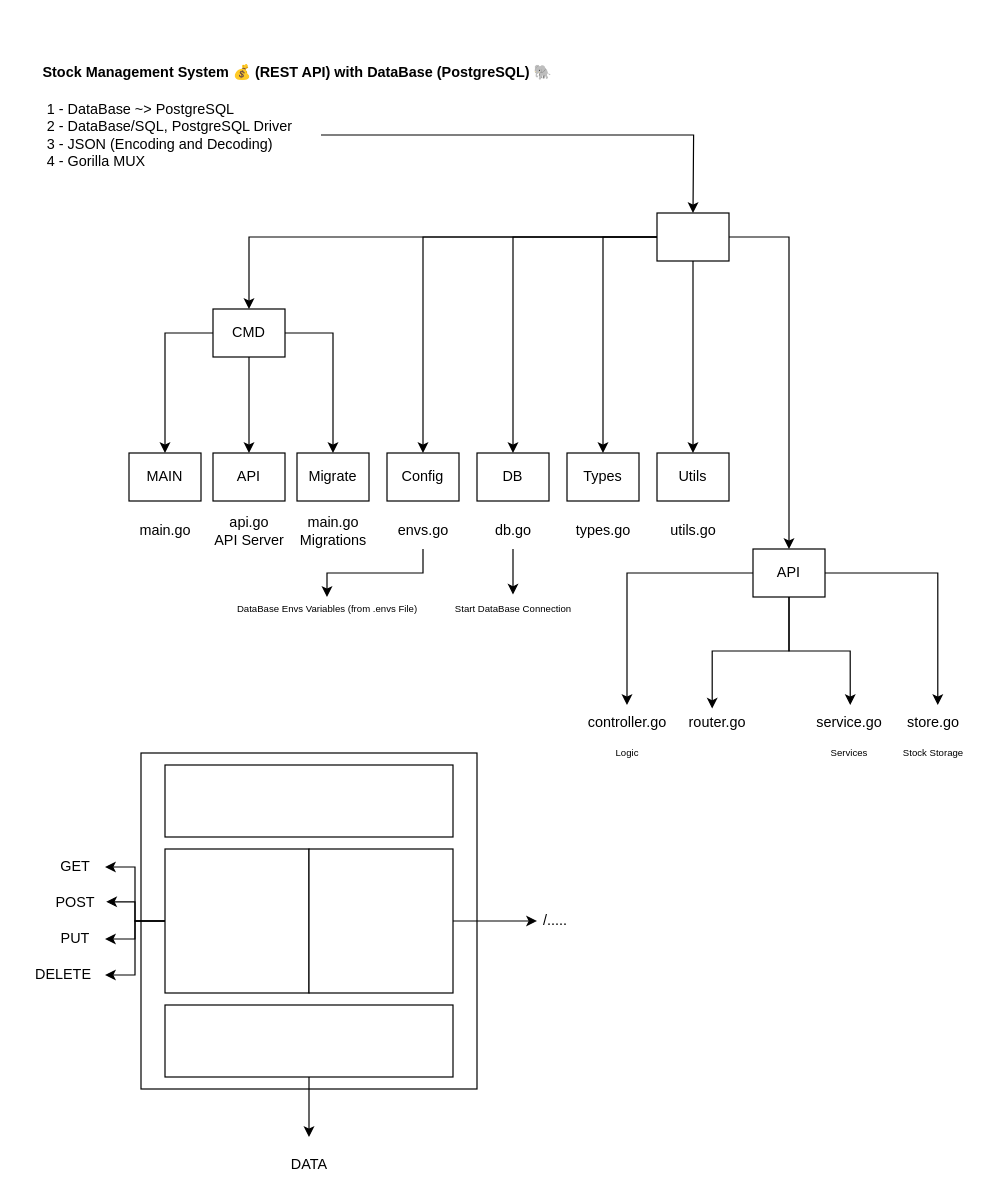
Image size: 1001x1202. Some labels were removed from this diagram. The centre of each missing label's shape, as x and y in pixels:
BODY: the point at 308,1040
ENDPOINT: the point at 380,920
HEADER: the point at 308,800
HTTP METHOD: the point at 236,920
SRC: the point at 692,236
